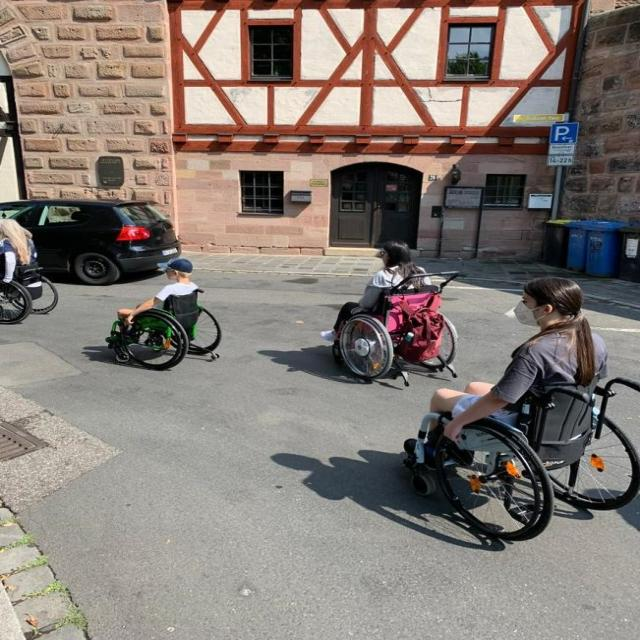wheelchairs: (388, 367, 640, 546), (335, 273, 480, 387), (106, 282, 233, 370), (0, 250, 62, 330)
